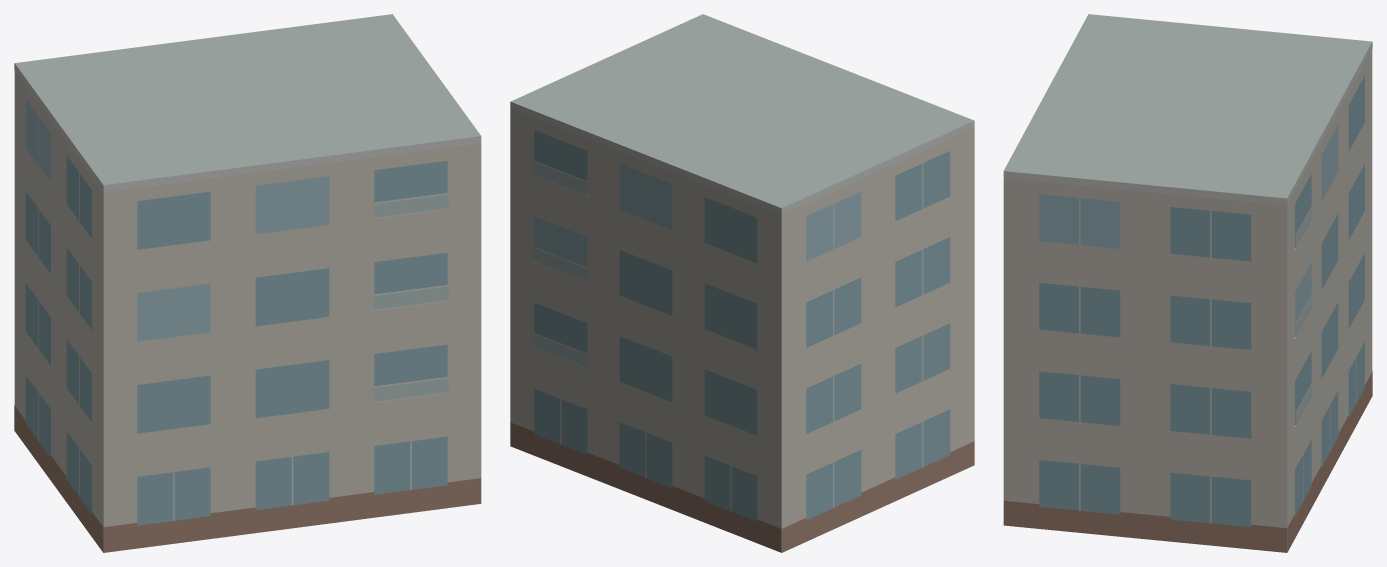
File: residential-562a6e5a-c1a8-45f0-9f50-ac187c185d53.glb
3 views of the same model, side by side, from view 1: azimuth 30°, elevation 25°; view 2: azimuth 150°, elevation 25°; view 3: azimuth 270°, elevation 25° (orthographic). The views are drawn at different scales.
Parts seen in each view (by area): view 1: residential-562a6e5a-c1a8-45f0-9f50-ac187c185d53.tmp; view 2: residential-562a6e5a-c1a8-45f0-9f50-ac187c185d53.tmp; view 3: residential-562a6e5a-c1a8-45f0-9f50-ac187c185d53.tmp.
Part boxes in pixels (<box>): residential-562a6e5a-c1a8-45f0-9f50-ac187c185d53.tmp: <box>14,14,481,552</box>; residential-562a6e5a-c1a8-45f0-9f50-ac187c185d53.tmp: <box>510,14,974,552</box>; residential-562a6e5a-c1a8-45f0-9f50-ac187c185d53.tmp: <box>1003,14,1372,552</box>.
Bounding box in the file's own units: 13.63 × 12.2 × 11.52.
